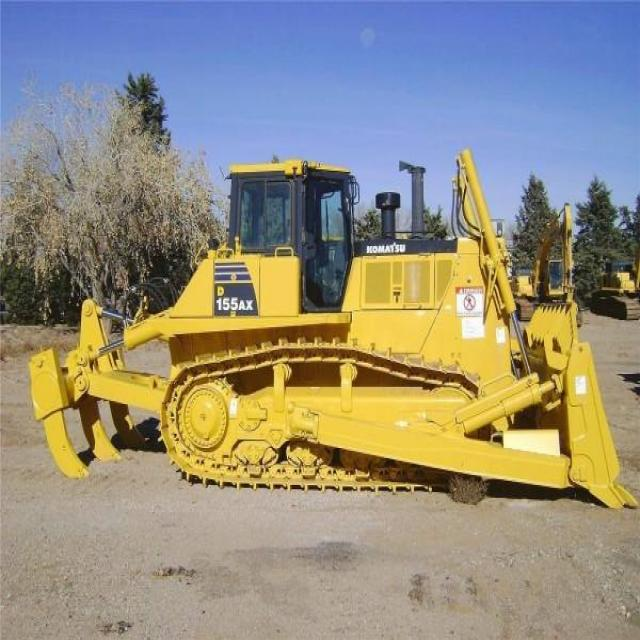Bulldozer: (29, 115, 639, 535)
